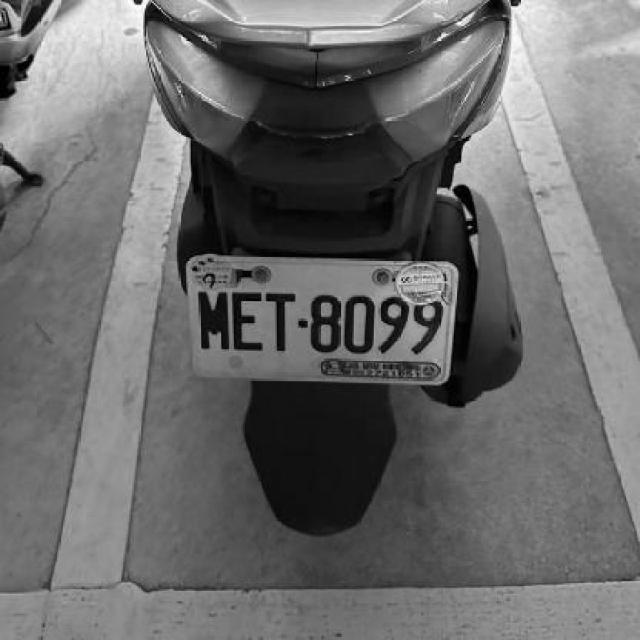-: (297, 314, 308, 326)
0: (342, 292, 376, 356)
8: (311, 291, 343, 355)
9: (376, 294, 412, 354), (410, 298, 444, 357)
E: (230, 285, 268, 352)
M: (192, 284, 230, 350)
T: (266, 288, 297, 352)
